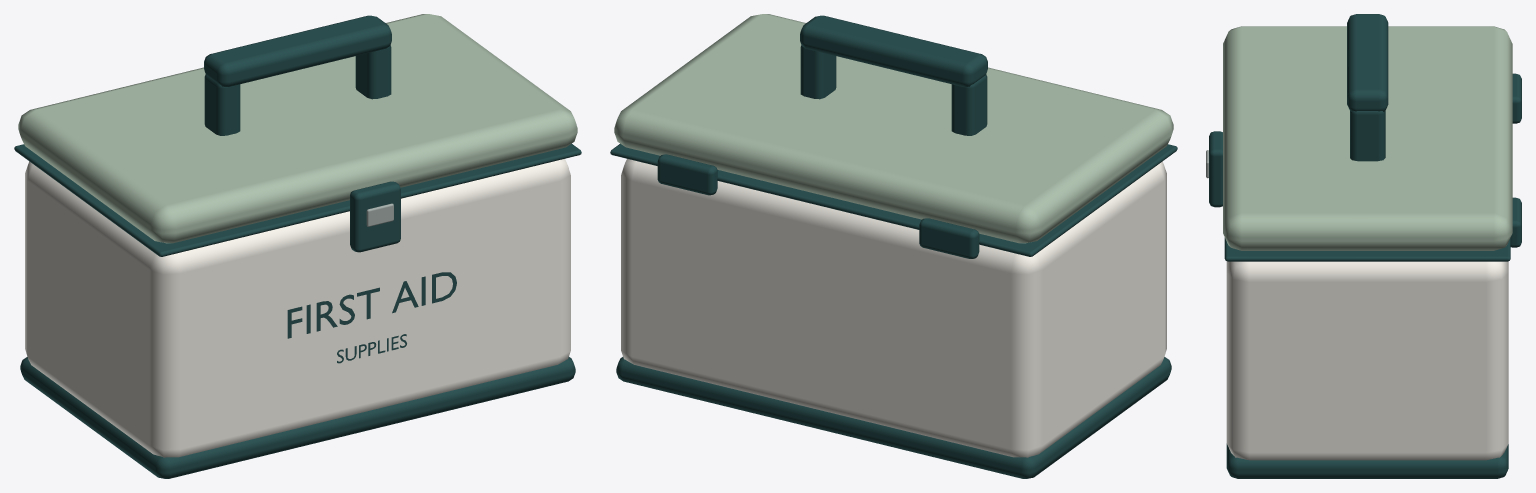
Rendered from FirstAidBox.fbx.
3 views of the same model, side by side, from view 1: azimuth 30°, elevation 25°; view 2: azimuth 150°, elevation 25°; view 3: azimuth 270°, elevation 25° (orthographic). The views are drawn at different scales.
Parts seen in each view (by area): view 1: CaseBody, Lid, ProtectiveBase, HandleGrip, LidSeam, FrontLatch, FirstAidLabel, HandleLeftSupport, HandleRightSupport; view 2: CaseBody, Lid, ProtectiveBase, HandleGrip, LidSeam, HandleLeftSupport, RearHinge.001, RearHinge, HandleRightSupport; view 3: Lid, CaseBody, ProtectiveBase, HandleGrip, LidSeam, HandleRightSupport, FrontLatch, RearHinge.001, RearHinge.
Part boxes in pixels (left/top/right/bottom): CaseBody: left=25, top=159, right=570, bottom=457; Lid: left=18, top=14, right=577, bottom=243; ProtectiveBase: left=20, top=357, right=575, bottom=478; HandleGrip: left=204, top=15, right=391, bottom=86; LidSeam: left=14, top=143, right=581, bottom=256; FrontLatch: left=350, top=181, right=400, bottom=252; FirstAidLabel: left=287, top=272, right=456, bottom=338; HandleLeftSupport: left=204, top=74, right=240, bottom=135; HandleRightSupport: left=355, top=45, right=391, bottom=99; CaseBody: left=621, top=159, right=1166, bottom=457; Lid: left=614, top=14, right=1173, bottom=243; ProtectiveBase: left=616, top=357, right=1171, bottom=478; HandleGrip: left=800, top=15, right=987, bottom=86; LidSeam: left=610, top=143, right=1177, bottom=256; HandleLeftSupport: left=951, top=74, right=987, bottom=135; RearHinge.001: left=657, top=154, right=717, bottom=195; RearHinge: left=919, top=218, right=979, bottom=258; HandleRightSupport: left=800, top=45, right=836, bottom=99; Lid: left=1223, top=26, right=1512, bottom=250; CaseBody: left=1226, top=261, right=1508, bottom=460; ProtectiveBase: left=1226, top=443, right=1508, bottom=478; HandleGrip: left=1347, top=14, right=1388, bottom=111; LidSeam: left=1224, top=237, right=1510, bottom=261; HandleRightSupport: left=1350, top=111, right=1385, bottom=161; FrontLatch: left=1209, top=131, right=1222, bottom=207; RearHinge.001: left=1510, top=197, right=1521, bottom=247; RearHinge: left=1512, top=73, right=1521, bottom=123.
Size of the model in its own units: 0.254 by 0.195 by 0.168.
